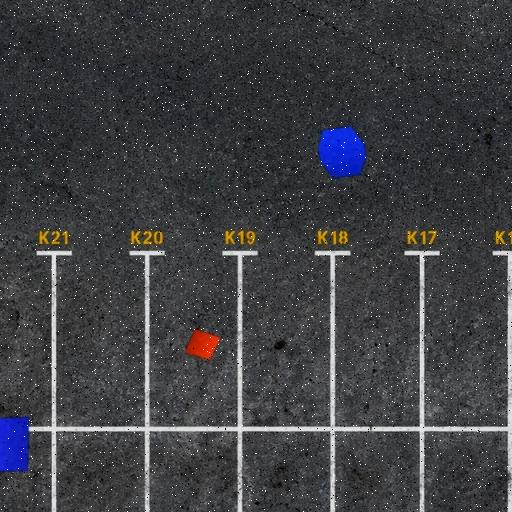BLUE_SQUARE: (0, 416, 30, 473)
RED_SQUARE: (184, 329, 222, 361)
